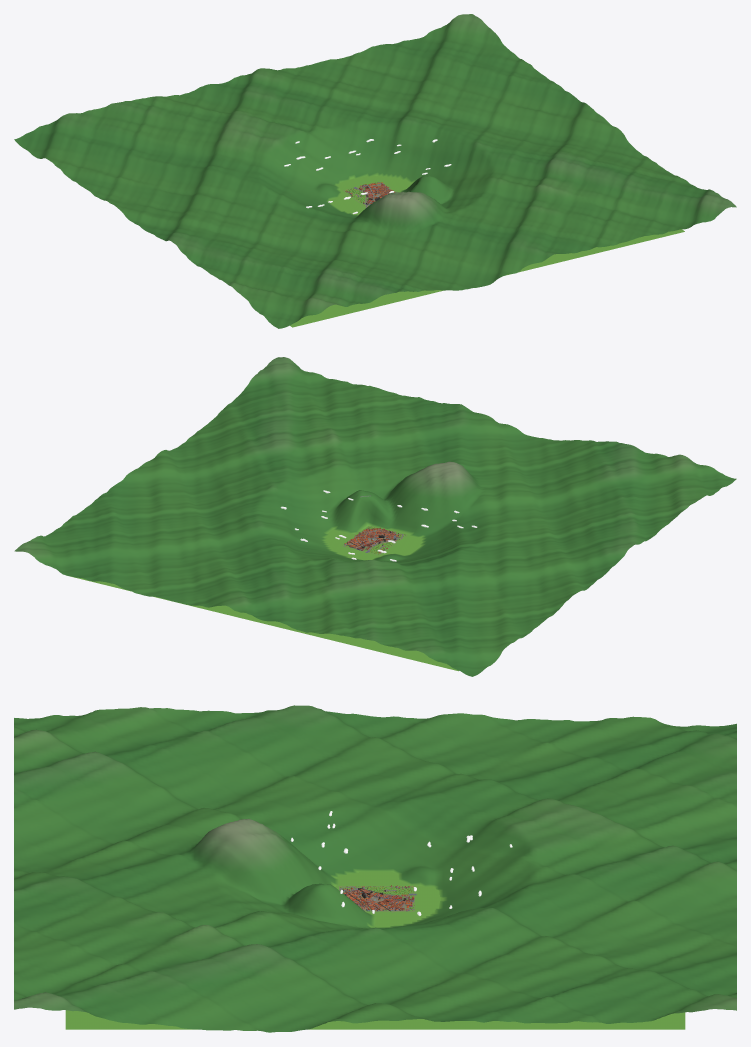
The model's file is world.glb.
3 renders of one model, top to bottom at view 1: azimuth 30°, elevation 25°; view 2: azimuth 150°, elevation 25°; view 3: azimuth 270°, elevation 25°, orthographic. The views are drawn at different scales.
Visible parts, largest first — view 1: obj_103, obj_1; view 2: obj_103, obj_1, col_obj_78; view 3: obj_103, obj_1, col_obj_78.
Part boxes in pixels (x1=…): obj_103: x1=14, y1=14, x2=736, y2=328; obj_1: x1=290, y1=175, x2=684, y2=327; obj_103: x1=14, y1=357, x2=736, y2=676; obj_1: x1=70, y1=525, x2=458, y2=671; col_obj_78: x1=344, y1=528, x2=398, y2=552; obj_103: x1=14, y1=705, x2=736, y2=1032; obj_1: x1=65, y1=871, x2=685, y2=1029; col_obj_78: x1=342, y1=885, x2=414, y2=910.
Bounding box in the file's own units: 7000 × 627 × 7000.
40 materials, 28 textured.
